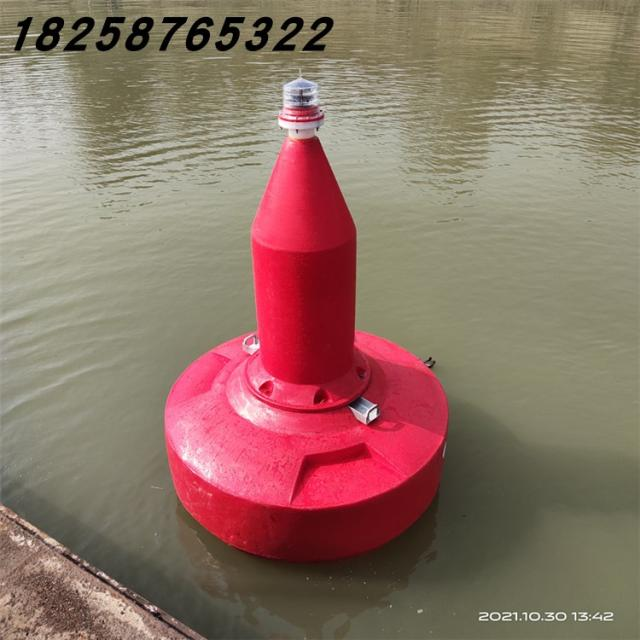buoy: (163, 68, 461, 552)
